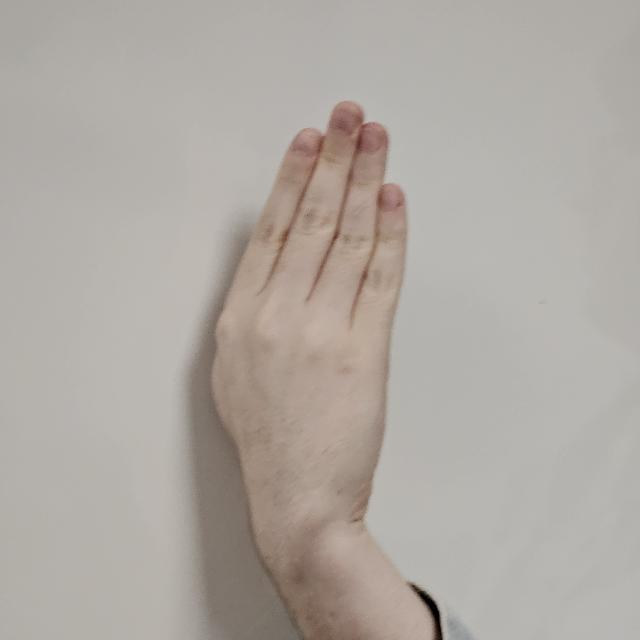Baixo: (185, 94, 442, 486)
